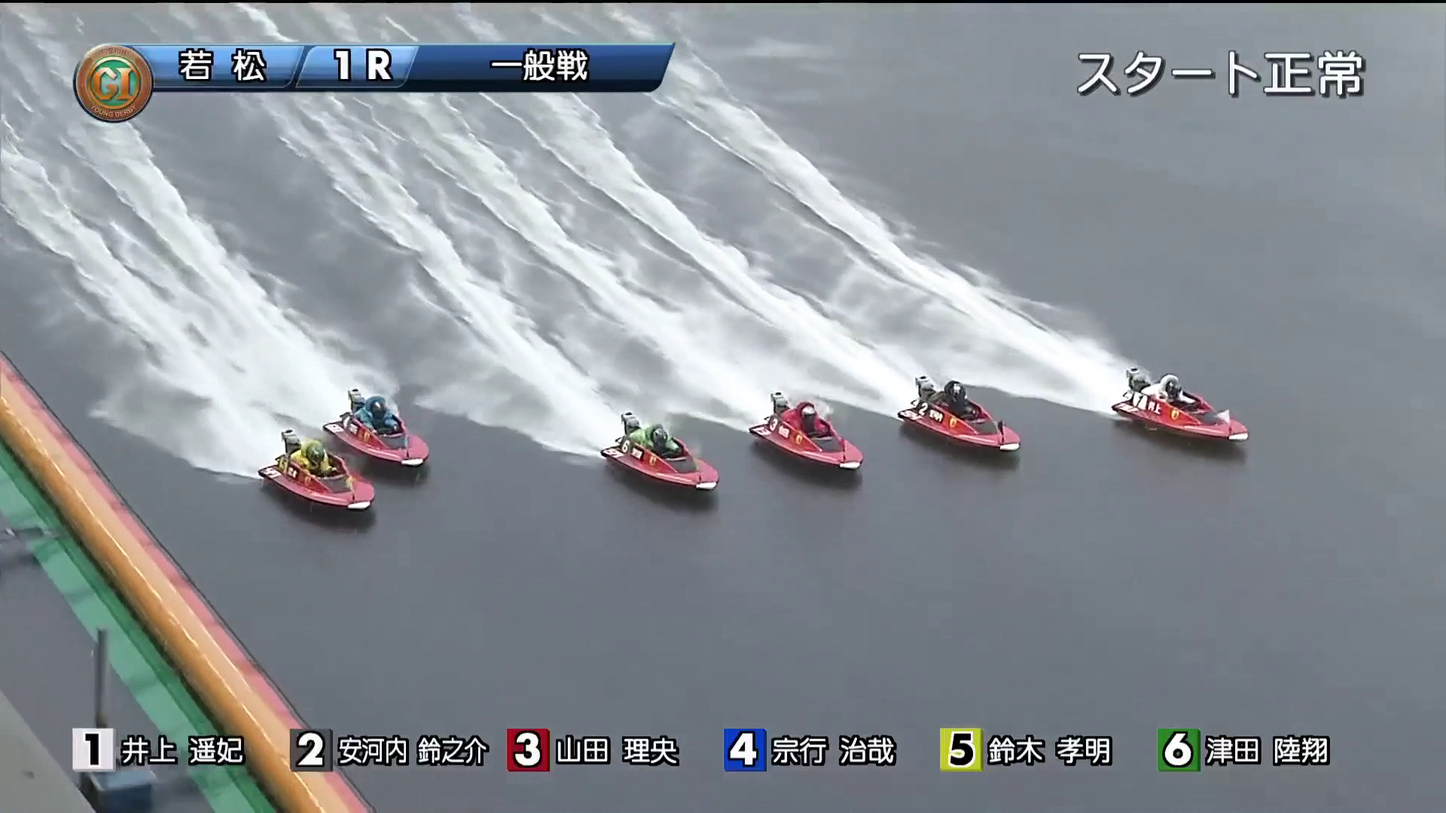１号艇: (1130, 365, 1245, 414)
２号艇: (912, 379, 1024, 430)
３号艇: (763, 425, 883, 467)
４号艇: (625, 441, 739, 497)
５号艇: (338, 415, 460, 470)
６号艇: (304, 483, 404, 540)
